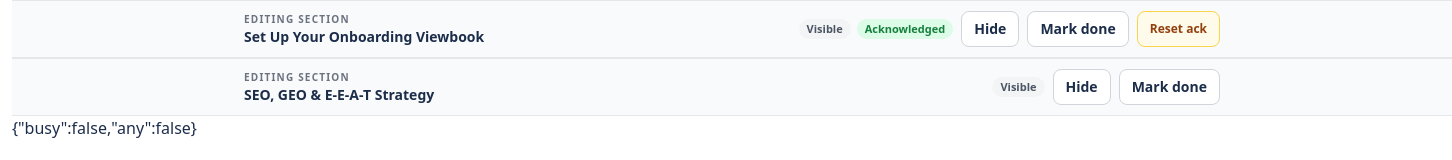
Test case: SectionQuickControls › a discrete mutation pins its section while busy, releases after settle even when the focused button unmounts, then a different section is selectable
Click the button "Reset ack".
click(1178, 29)  # box [1137,11,1220,47]
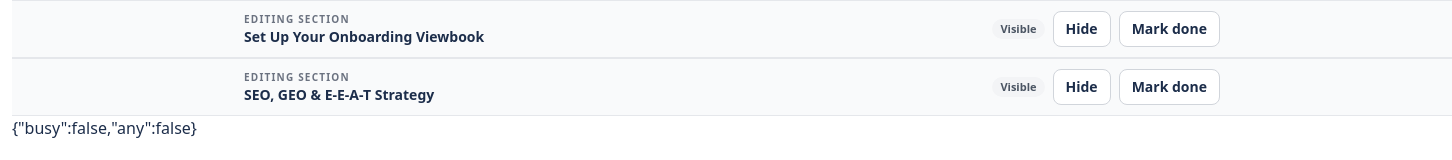
Expected: the button "Reset ack" is gone
